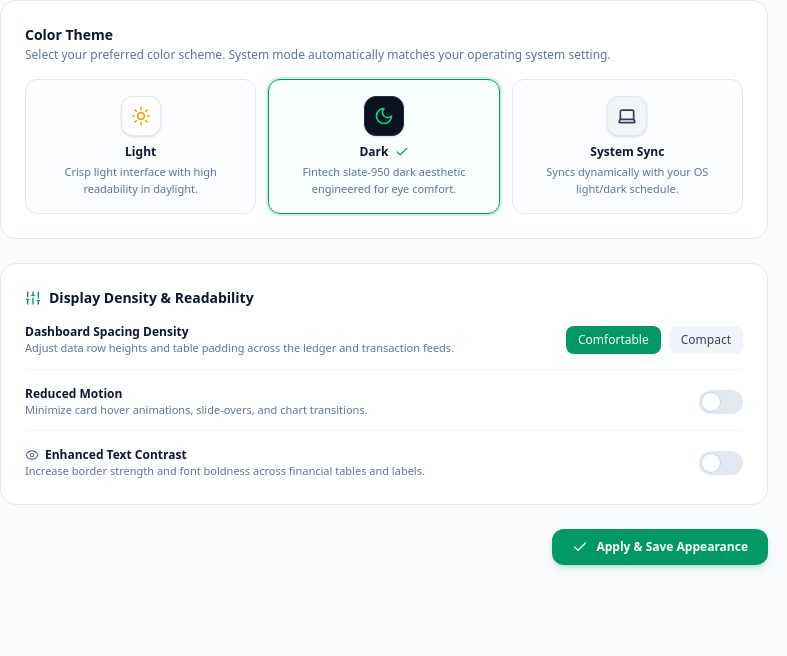
Phase 8: Settings & Notifications Center › applies theme selection immediately and toggles display density
This screenshot has width=787, height=656.
# Select Light theme
Click the text "Light" at (141, 152), box [125, 143, 156, 160]
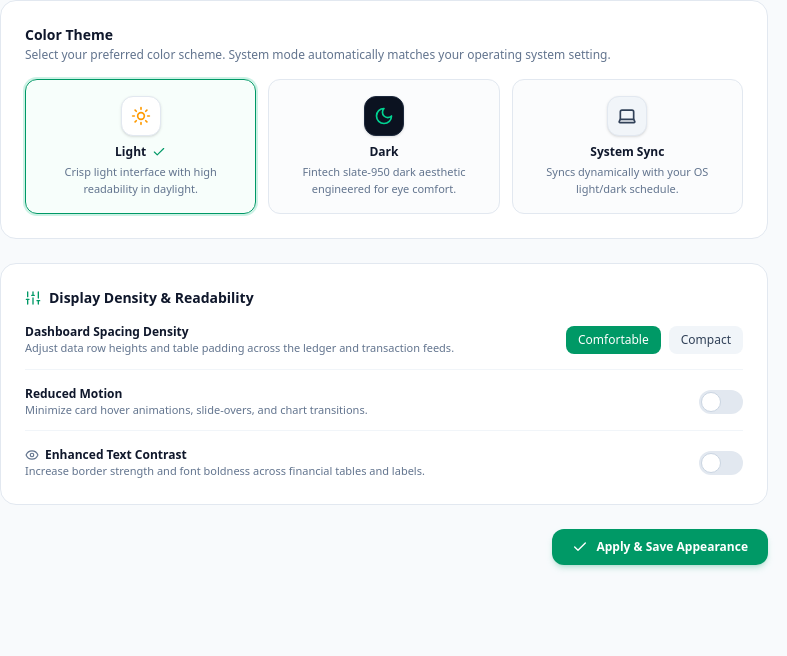
# Select Dark theme
Click the text "Dark" at (384, 152), box [370, 143, 398, 160]
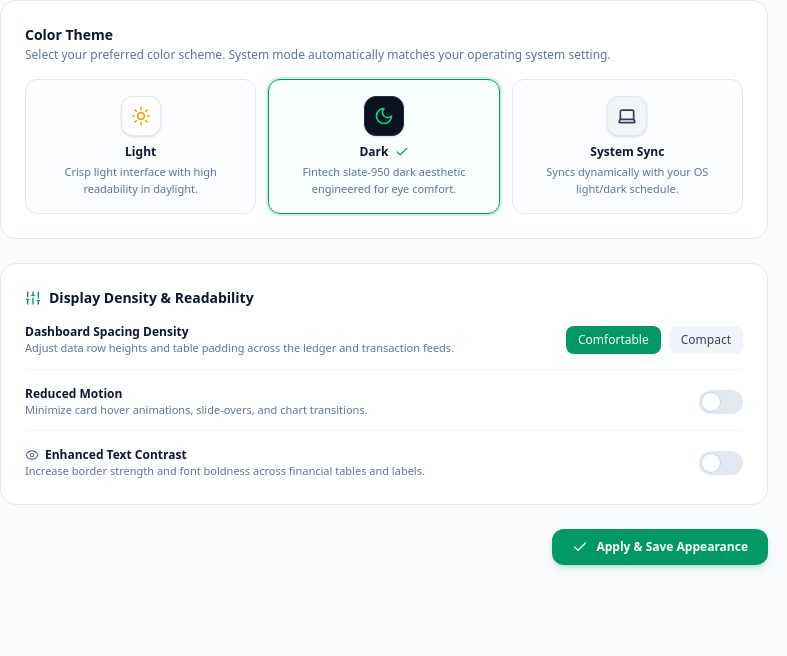
# Select Compact density
Click the button "Compact" at (706, 340), box [669, 326, 743, 354]
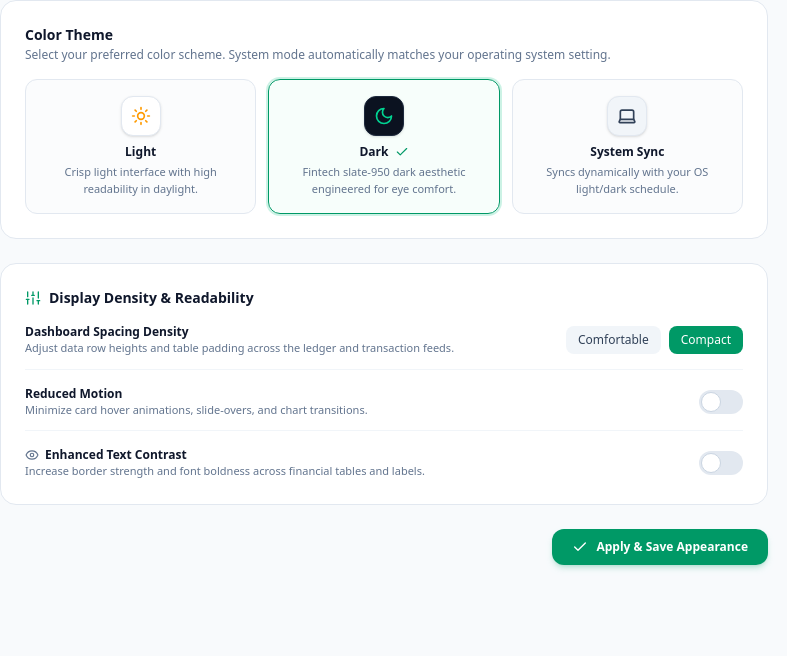
# Save appearance
Click the button "Apply & Save Appearance" at (660, 546), box [552, 528, 768, 564]
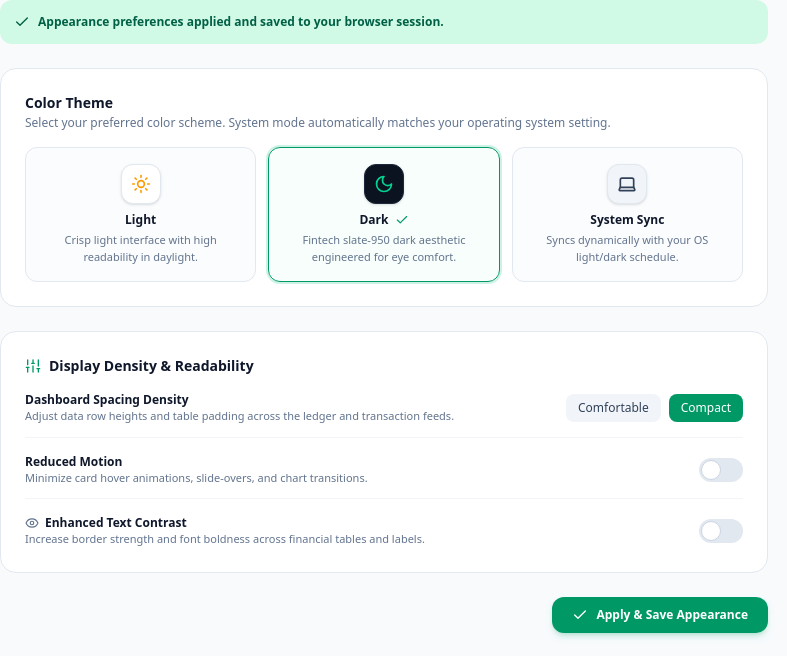
Expected: the text "Appearance preferences applied and saved" is shown, [38, 13, 444, 30]
